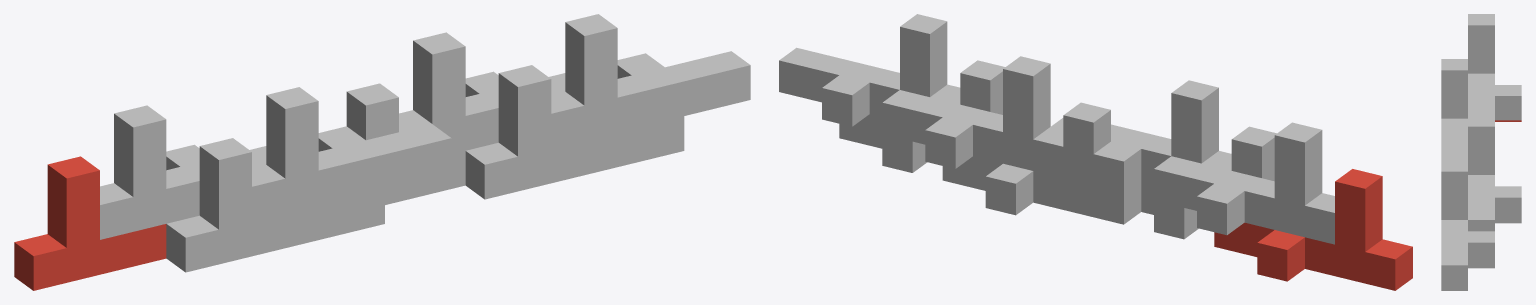
Rendered from tiling.obj.
3 renders of one model, left to right at view 1: azimuth 30°, elevation 25°; view 2: azimuth 150°, elevation 25°; view 3: azimuth 270°, elevation 25°, orthographic. The views are drawn at different scales.
Visible parts, largest first — view 1: copy_1_domain_8, copy_1_domain_4, copy_1_domain_6, copy_1_domain_2, copy_1_domain_1, copy_1_domain_3, copy_1_domain_7, copy_1_domain_5; view 2: copy_1_domain_3, copy_1_domain_7, copy_1_domain_1, copy_1_domain_8, copy_1_domain_5, copy_1_domain_4, copy_1_domain_6, copy_1_domain_2; view 3: copy_1_domain_8, copy_1_domain_7, copy_1_domain_3, copy_1_domain_4, copy_1_domain_6, copy_1_domain_5.
Part boxes in pixels (x1,y1,x2,y2): copy_1_domain_8: (551,14,750,148); copy_1_domain_4: (252,87,451,221); copy_1_domain_6: (465,65,684,199); copy_1_domain_2: (166,138,384,272); copy_1_domain_1: (14,156,166,290); copy_1_domain_3: (100,105,266,239); copy_1_domain_7: (399,32,565,153); copy_1_domain_5: (346,83,465,204); copy_1_domain_3: (1154,122,1334,244); copy_1_domain_7: (882,56,1063,178); copy_1_domain_1: (1214,169,1412,290); copy_1_domain_8: (779,14,960,126); copy_1_domain_5: (942,102,1141,224); copy_1_domain_4: (1051,80,1231,192); copy_1_domain_6: (839,60,1005,172); copy_1_domain_2: (1141,126,1276,239); copy_1_domain_8: (1441,160,1494,289); copy_1_domain_7: (1468,115,1521,231); copy_1_domain_3: (1468,14,1521,120); copy_1_domain_4: (1441,59,1467,160); copy_1_domain_6: (1441,266,1494,290); copy_1_domain_5: (1495,221,1521,223).
Bounding box in the file's own units: 21 × 4 × 3.
